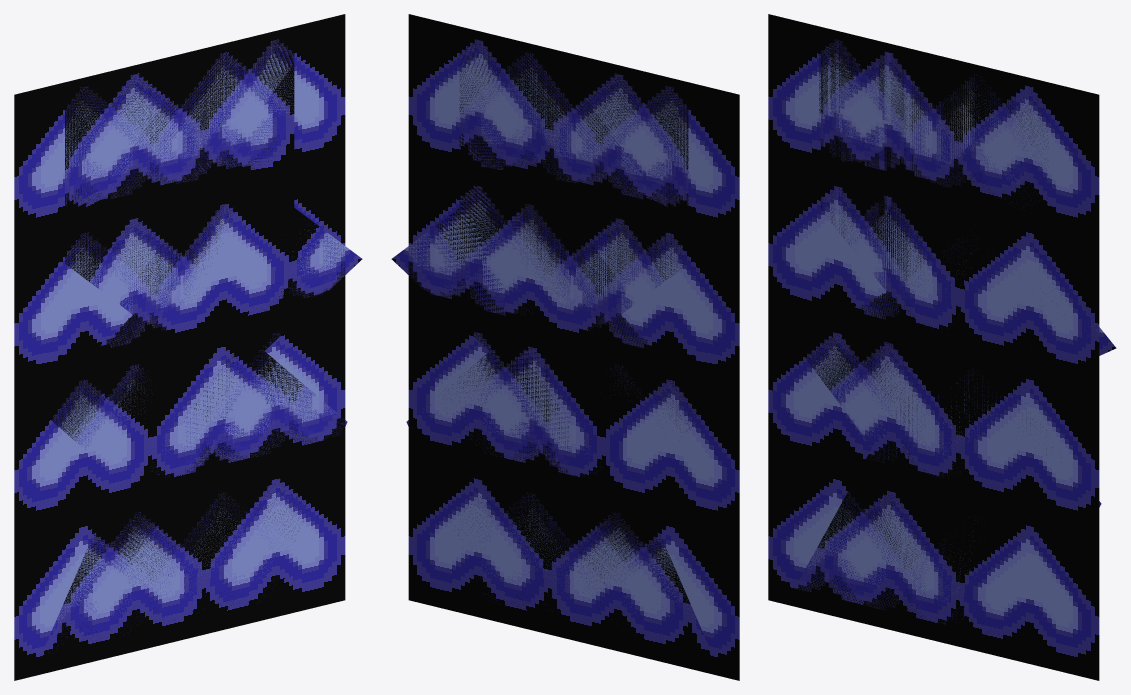
3 views of the same model, side by side, from view 1: azimuth 30°, elevation 25°; view 2: azimuth 150°, elevation 25°; view 3: azimuth 330°, elevation 25° (orthographic).
Visible parts, largest first — view 1: ef_008; view 2: ef_008; view 3: ef_008.
Boxes of the visible parts, x1,y1,x2,y2 form: ef_008: (14,14,362,680); ef_008: (391,14,739,680); ef_008: (768,14,1116,680).
Size of the model in its own units: 0.4243 by 0.6826 by 0.
Materials: 1 (1 with a texture image).
